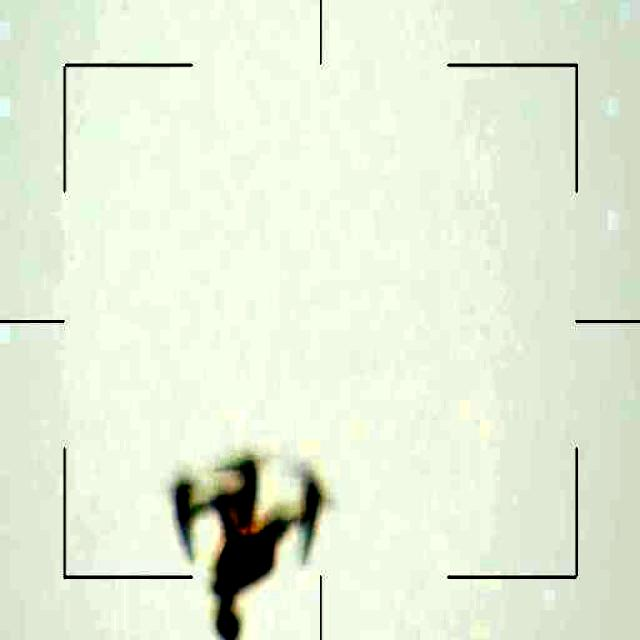bird: (166, 422, 339, 635)
